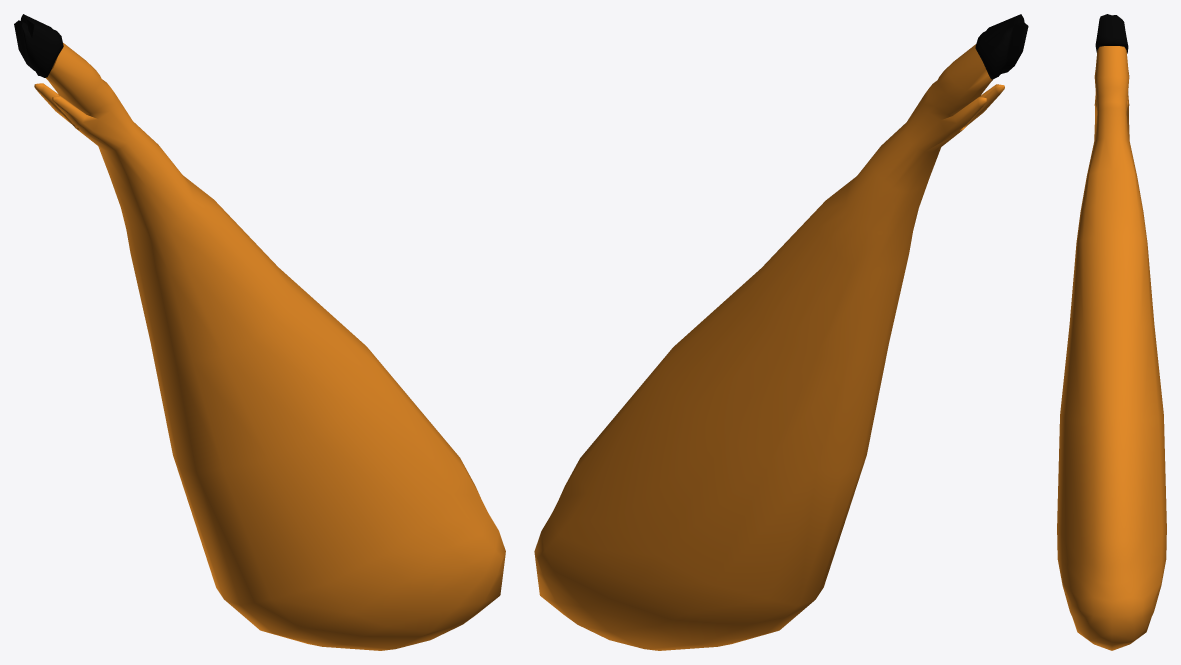
The model's file is Pata de jamon.fbx.
3 views of the same model, side by side, from view 1: azimuth 30°, elevation 25°; view 2: azimuth 150°, elevation 25°; view 3: azimuth 270°, elevation 25° (orthographic). The views are drawn at different scales.
Visible parts, largest first — view 1: Pata de jamon; view 2: Pata de jamon; view 3: Pata de jamon.
Boxes of the visible parts, x1,y1,x2,y2 form: Pata de jamon: (14, 14, 505, 650); Pata de jamon: (534, 14, 1028, 650); Pata de jamon: (1057, 14, 1166, 650).
Bounding box in the file's own units: 54.36 × 77.36 × 15.54.
